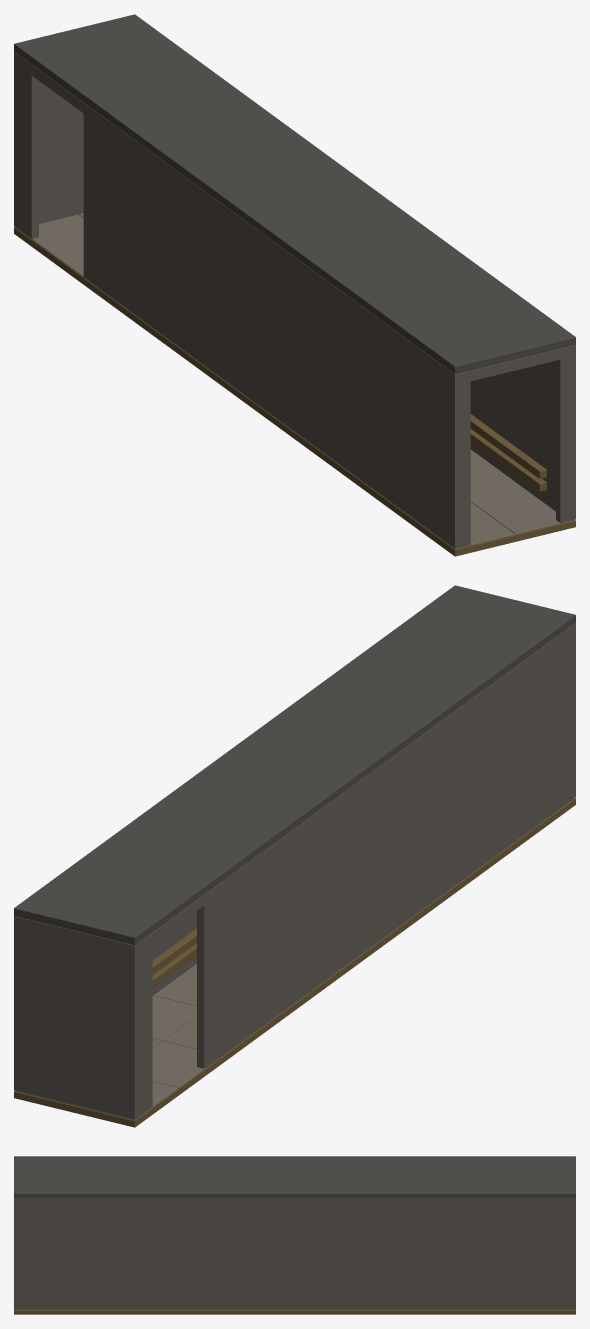
File: gen-keela.glb
3 views of the same model, one above another, from view 1: azimuth 30°, elevation 25°; view 2: azimuth 150°, elevation 25°; view 3: azimuth 270°, elevation 25° (orthographic). The views are drawn at different scales.
Visible parts, largest first — view 1: THE KEEL RISE; view 2: THE KEEL RISE; view 3: THE KEEL RISE.
Boxes of the visible parts, box(x1,y1,x2,y2) form: THE KEEL RISE: box(14, 14, 575, 556); THE KEEL RISE: box(14, 585, 575, 1127); THE KEEL RISE: box(14, 1156, 575, 1314).
Bounding box in the file's own units: 1.6 × 2.4 × 10.09.
